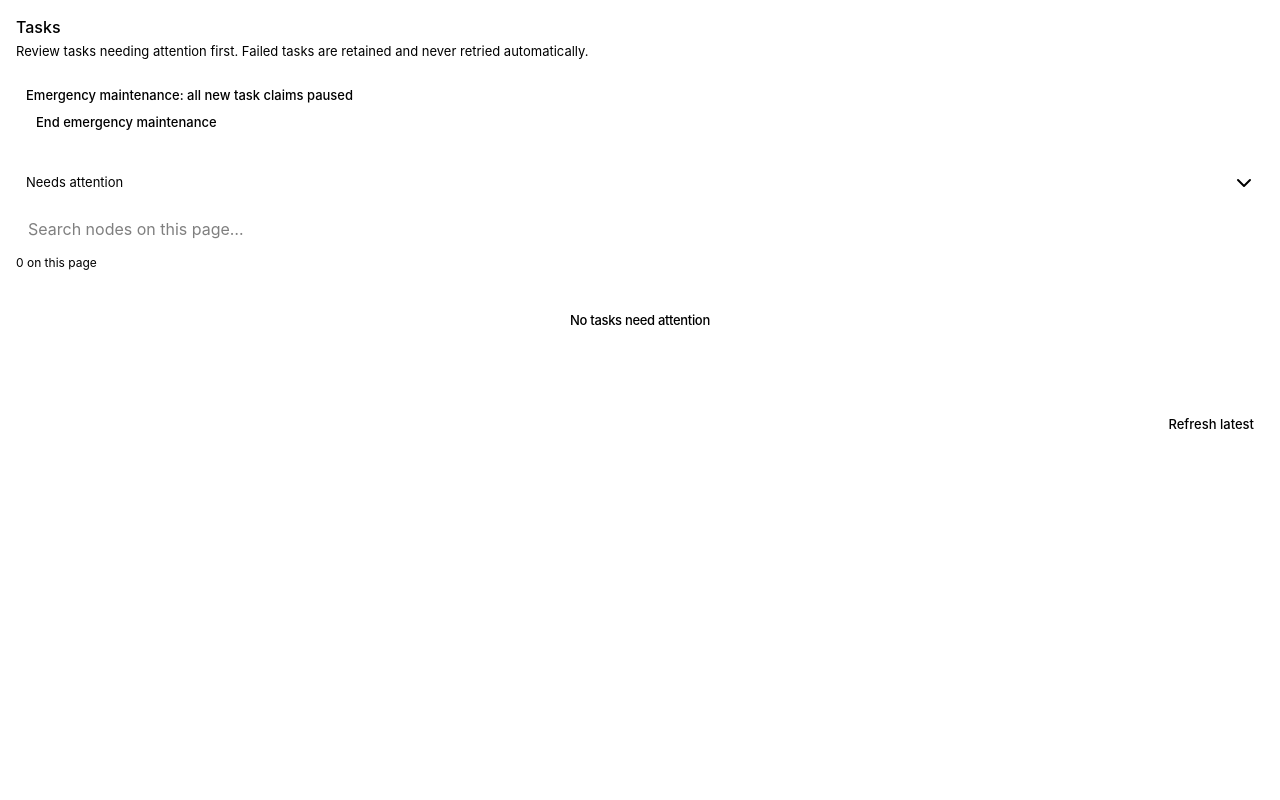
Test: requires a separate explicit confirmation before resuming claims
The width and height of the screenshot is (1280, 800).
Click the button "End emergency maintenance": (126, 123) top-left (26, 107), bottom-right (227, 139)
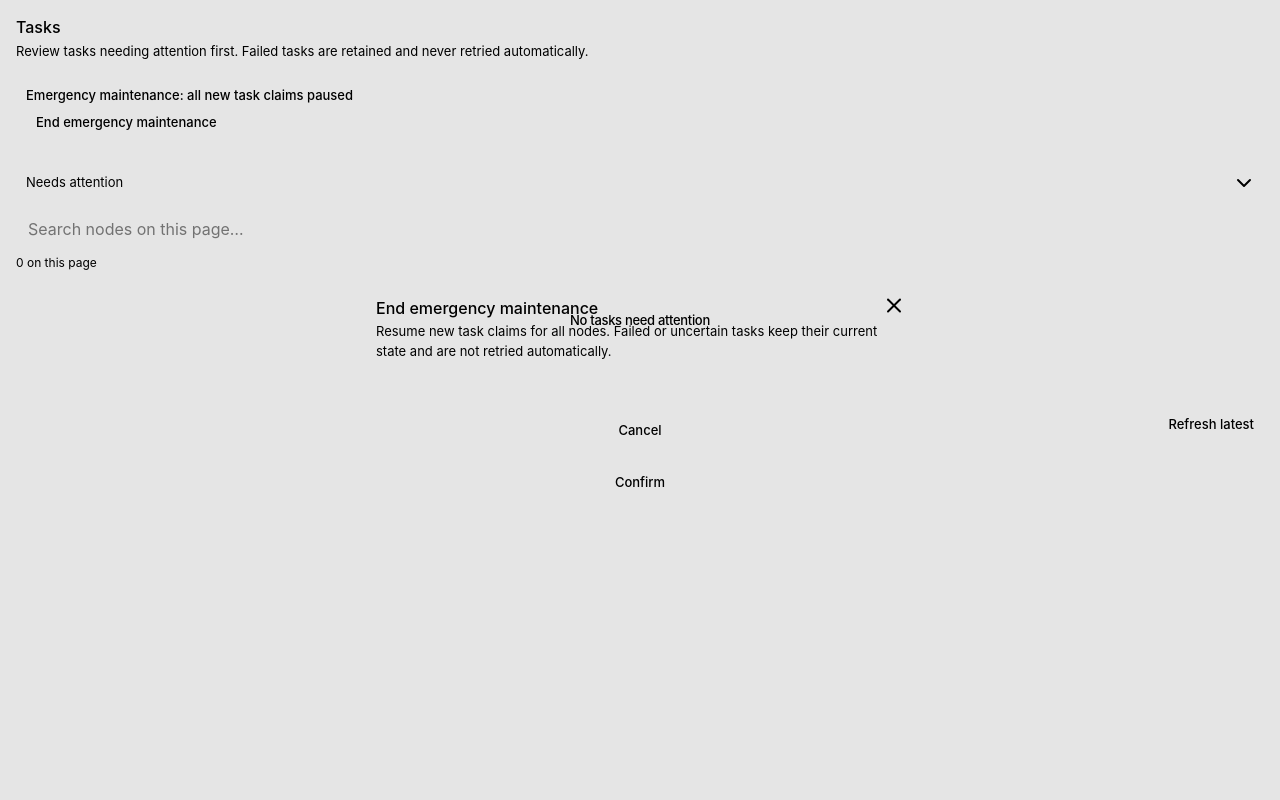
Check: the text "Failed or uncertain tasks keep their current state" is shown, box top-left (376, 322), bottom-right (877, 358)
Click the button "Confirm": (640, 482) top-left (376, 460), bottom-right (904, 504)
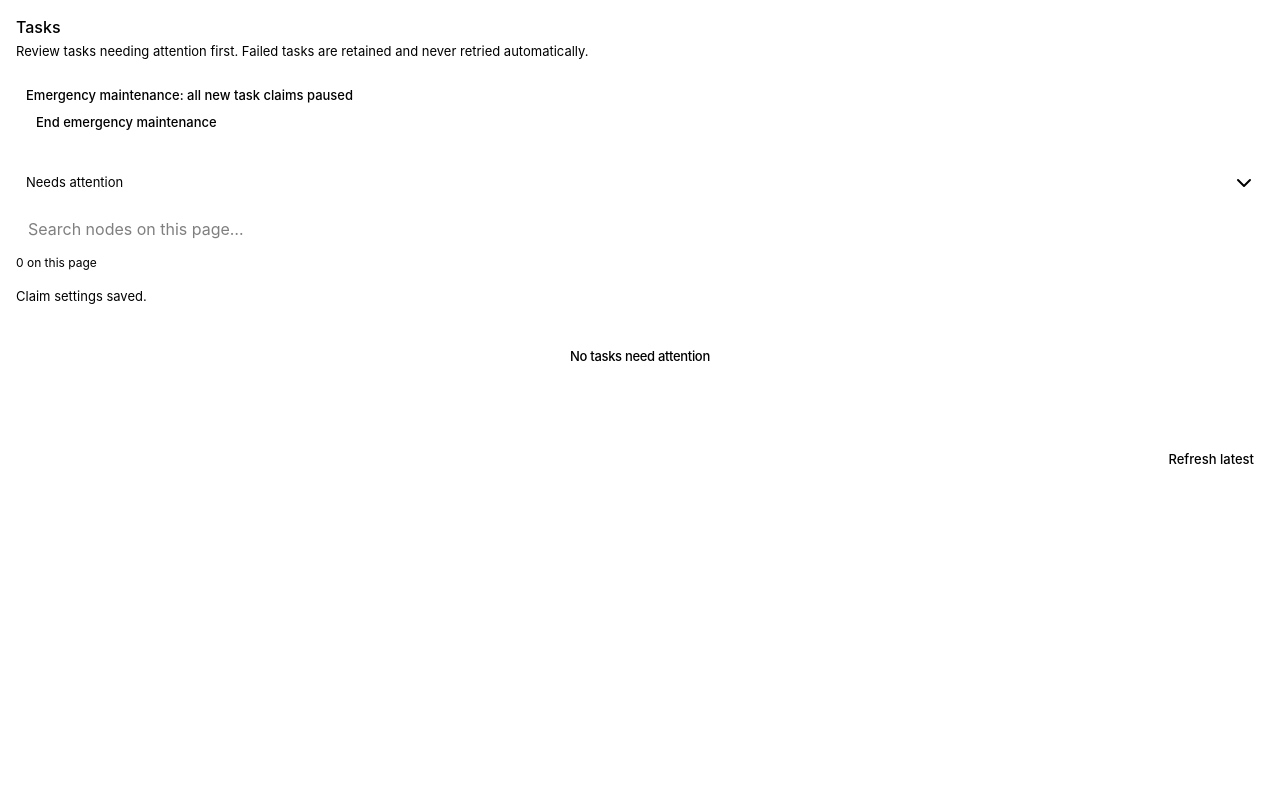
Check: the text "Claim settings saved." is shown, box top-left (16, 288), bottom-right (147, 304)
